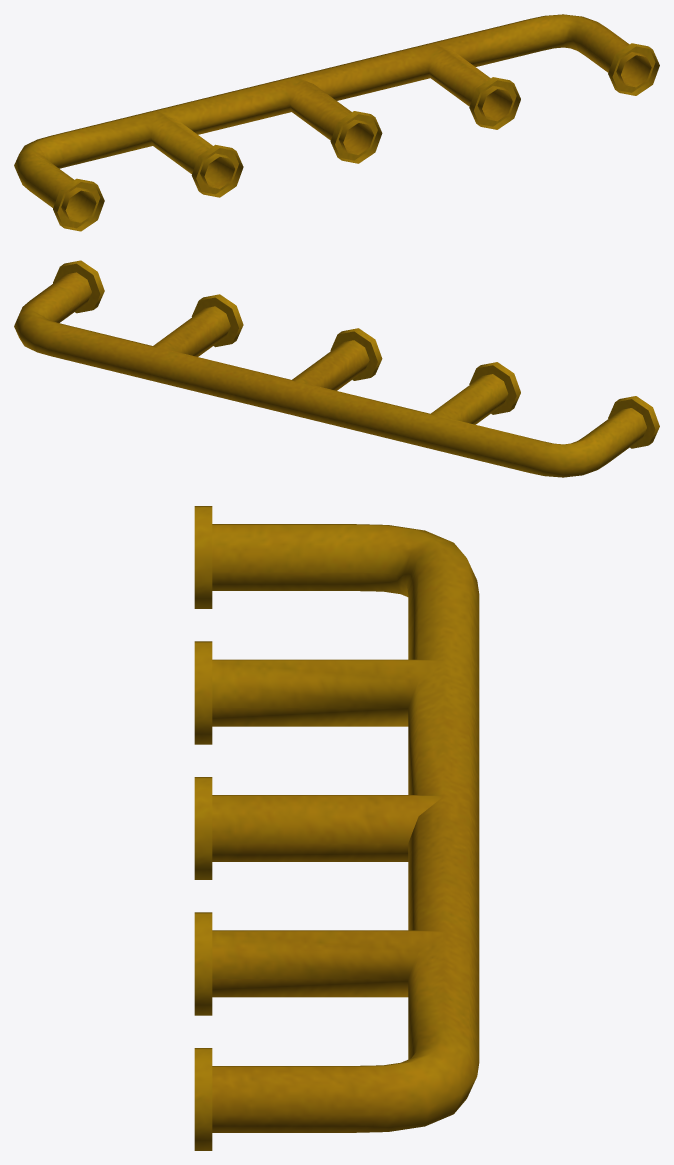
The model's file is FenceMetal.FBX.
The picture shows the model from 3 angles, top to bottom: view 1: azimuth 30°, elevation 25°; view 2: azimuth 150°, elevation 25°; view 3: azimuth 270°, elevation 25°; orthographic projection. The views are drawn at different scales.
Parts seen in each view (by area): view 1: Step_polySurface678__Metal03_T; view 2: Step_polySurface678__Metal03_T; view 3: Step_polySurface678__Metal03_T.
Boxes of the visible parts, left/top/right/bottom form: Step_polySurface678__Metal03_T: left=14, top=14, right=659, bottom=231; Step_polySurface678__Metal03_T: left=14, top=260, right=659, bottom=477; Step_polySurface678__Metal03_T: left=194, top=506, right=479, bottom=1150.
Bounding box in the file's own units: 391 × 30.82 × 80.
